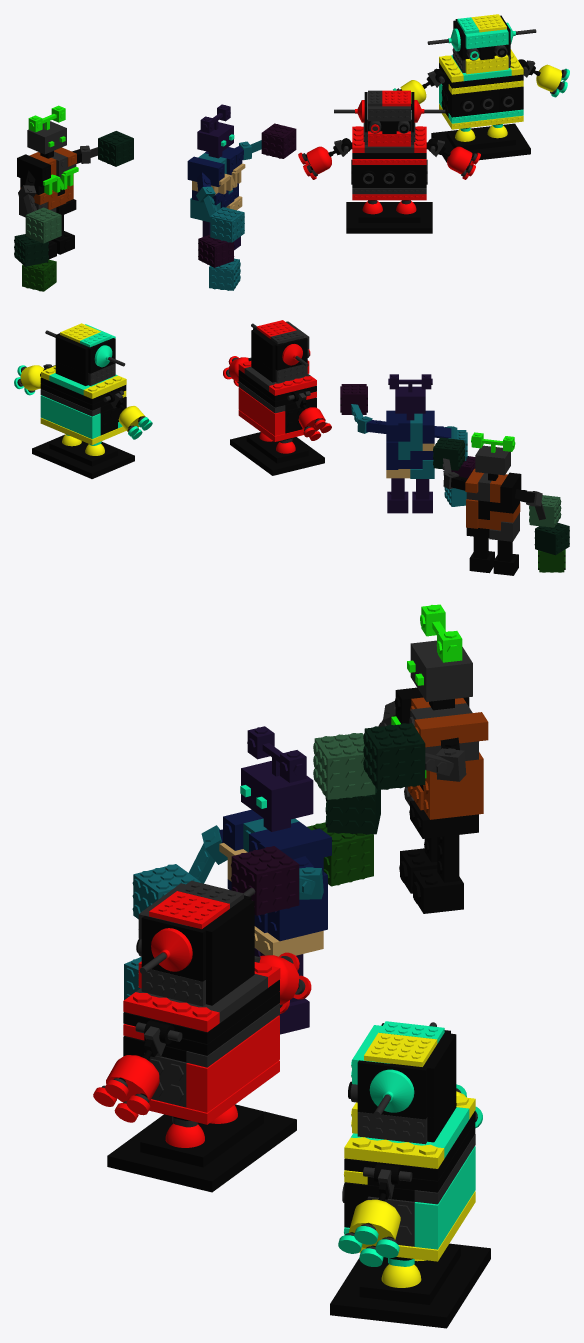
File: BrickToy_3D_LowPoly_Warrior_Robots_.fbx
The picture shows the model from 3 angles, top to bottom: view 1: azimuth 30°, elevation 25°; view 2: azimuth 150°, elevation 25°; view 3: azimuth 270°, elevation 25°; orthographic projection. The views are drawn at different scales.
Visible parts, largest first — view 1: Brick_Robots_2_008_1, Brick_Robots_2_008, Brick_Robots_2_005_1, Brick_Robots_2_005, Brick_Robots_1_010, Brick_Robots_1_010_1, Brick_Robots_2_000, Brick_Robots_2_000_1, Brick_Robots_1_004, Brick_Robots_1_014, Brick_Robots_1_014_1, Brick_Robots_1_004_1 (+13 smaller); view 2: Brick_Robots_2_008_1, Brick_Robots_2_008, Brick_Robots_1_010, Brick_Robots_2_005_1, Brick_Robots_1_010_1, Brick_Robots_2_005, Brick_Robots_2_000_1, Brick_Robots_2_000, Brick_Robots_1_009, Brick_Robots_1_001, Brick_Robots_1_009_1, Brick_Robots_1_014 (+14 smaller); view 3: Brick_Robots_2_008, Brick_Robots_2_008_1, Brick_Robots_2_005, Brick_Robots_2_005_1, Brick_Robots_2_000, Brick_Robots_1_010, Brick_Robots_2_000_1, Brick_Robots_1_010_1, Brick_Robots_1_014, Brick_Robots_1_014_1, Brick_Robots_1_009_1, Brick_Robots_1_004 (+16 smaller).
Part boxes in pixels (x1,y1,x2,y2): Brick_Robots_2_008_1: (439, 49, 523, 129); Brick_Robots_2_008: (350, 126, 428, 200); Brick_Robots_2_005_1: (427, 14, 536, 74); Brick_Robots_2_005: (334, 90, 445, 146); Brick_Robots_1_010: (17, 147, 78, 217); Brick_Robots_1_010_1: (187, 147, 245, 222); Brick_Robots_2_000: (346, 202, 432, 233); Brick_Robots_2_000_1: (431, 123, 530, 162); Brick_Robots_1_004: (25, 207, 61, 243); Brick_Robots_1_014: (98, 131, 133, 166); Brick_Robots_1_014_1: (261, 123, 296, 158); Brick_Robots_1_004_1: (210, 207, 244, 242); Brick_Robots_2_008_1: (40, 365, 126, 444); Brick_Robots_2_008: (238, 361, 316, 441); Brick_Robots_1_010: (465, 468, 521, 541); Brick_Robots_2_005_1: (45, 323, 125, 385); Brick_Robots_1_010_1: (386, 410, 434, 478); Brick_Robots_2_005: (251, 320, 310, 382); Brick_Robots_2_000_1: (32, 434, 134, 478); Brick_Robots_2_000: (230, 432, 324, 475); Brick_Robots_1_009: (475, 445, 510, 480); Brick_Robots_1_001: (534, 522, 569, 555); Brick_Robots_1_009_1: (395, 386, 425, 420); Brick_Robots_1_014: (433, 437, 465, 470); Brick_Robots_2_008: (123, 962, 280, 1124); Brick_Robots_2_008_1: (342, 1095, 475, 1261); Brick_Robots_2_005: (136, 880, 255, 1006); Brick_Robots_2_005_1: (348, 1021, 456, 1144); Brick_Robots_2_000: (107, 1104, 296, 1192); Brick_Robots_1_010: (391, 687, 488, 838); Brick_Robots_2_000_1: (330, 1243, 490, 1328); Brick_Robots_1_010_1: (219, 809, 331, 956); Brick_Robots_1_014: (363, 723, 425, 789); Brick_Robots_1_014_1: (231, 846, 299, 915); Brick_Robots_1_009_1: (240, 761, 313, 831); Brick_Robots_1_004: (313, 733, 375, 799).
Size of the model in its own units: 2179 by 548 by 691.
Materials: 15 (15 with a texture image).
